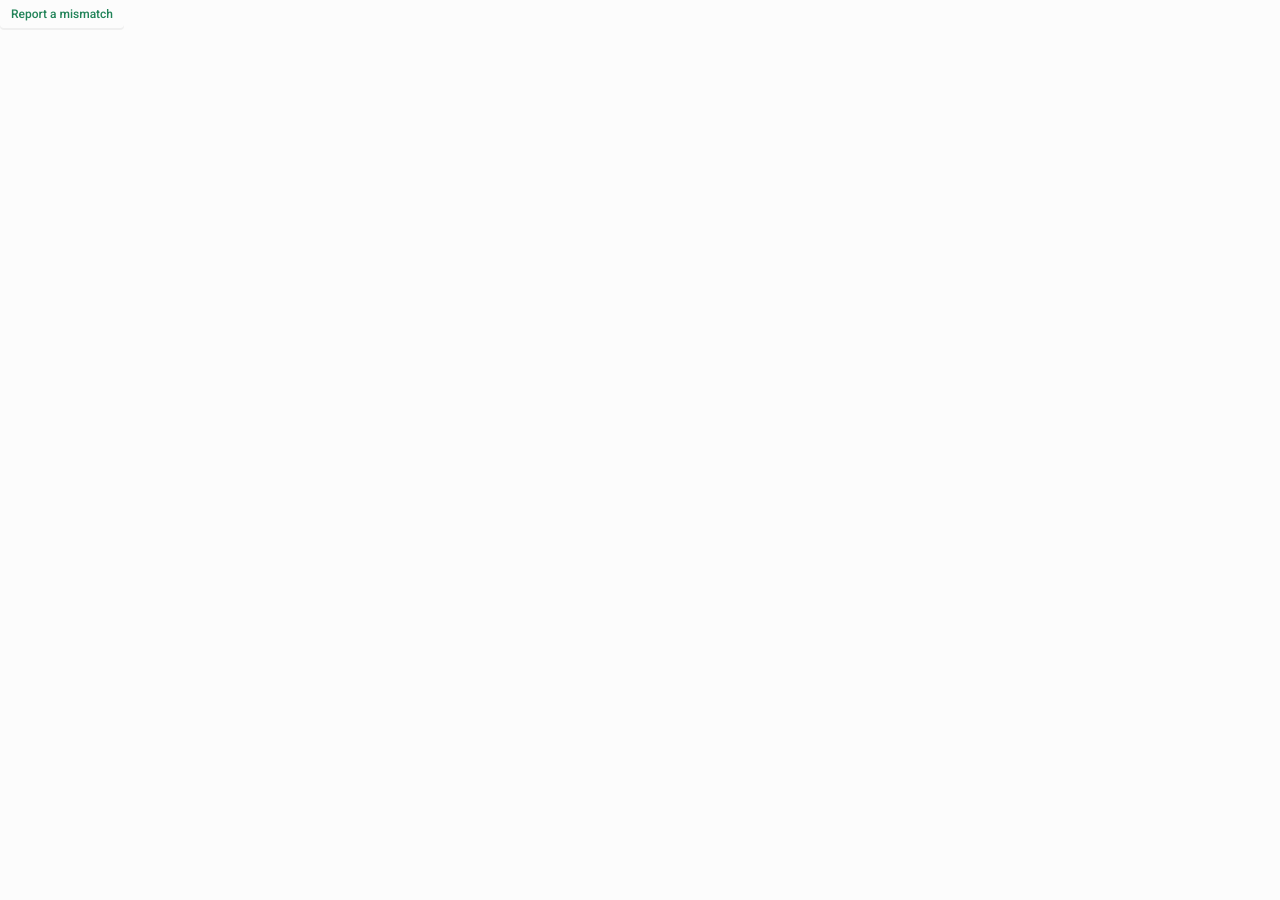
Test: ReportDialog › clears the field error once a field is chosen
Click the button "Report a mismatch": (62, 14) [0,0,124,28]
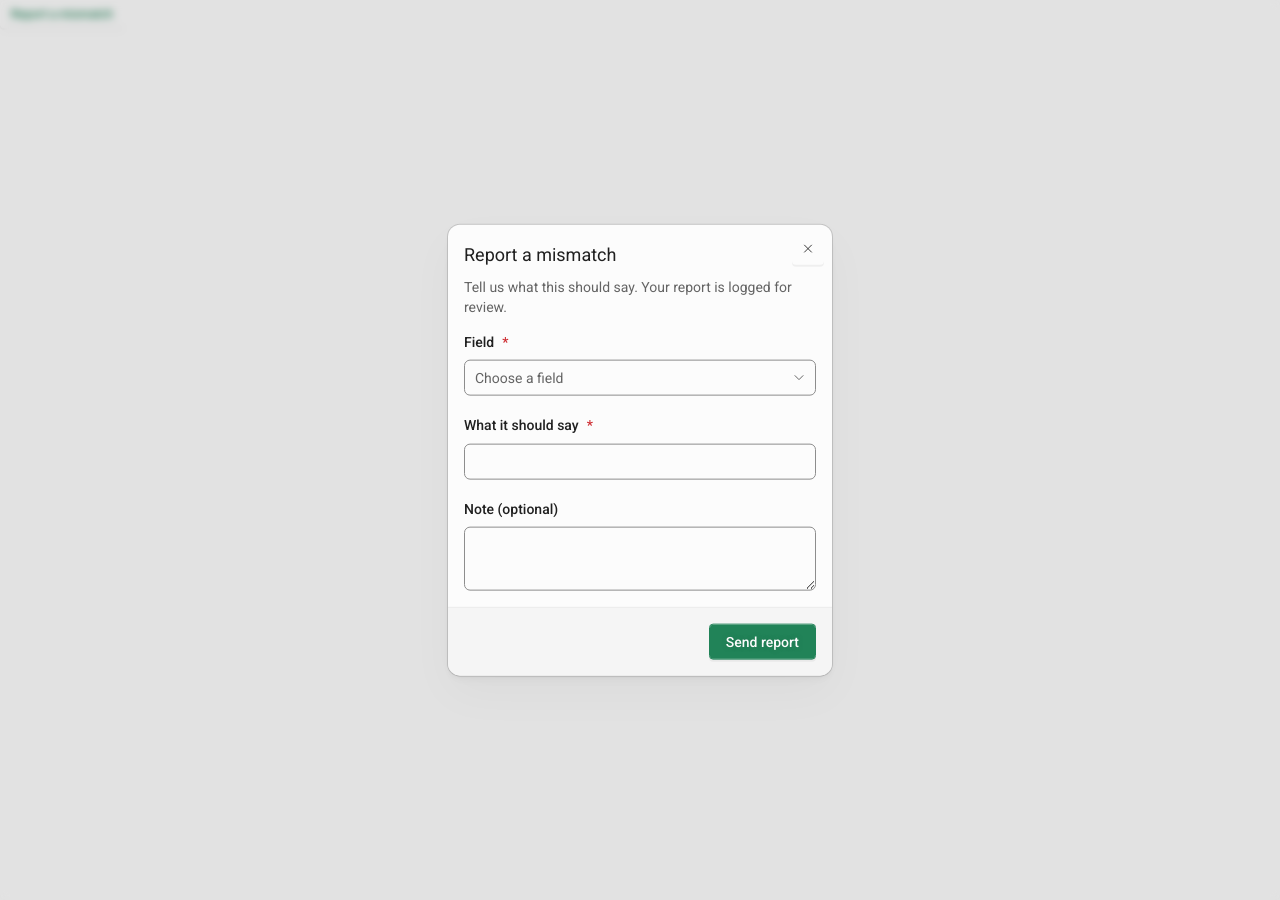
In the field labelled "What it should say *": (640, 461) [464,443,816,479], type "Mid-level"
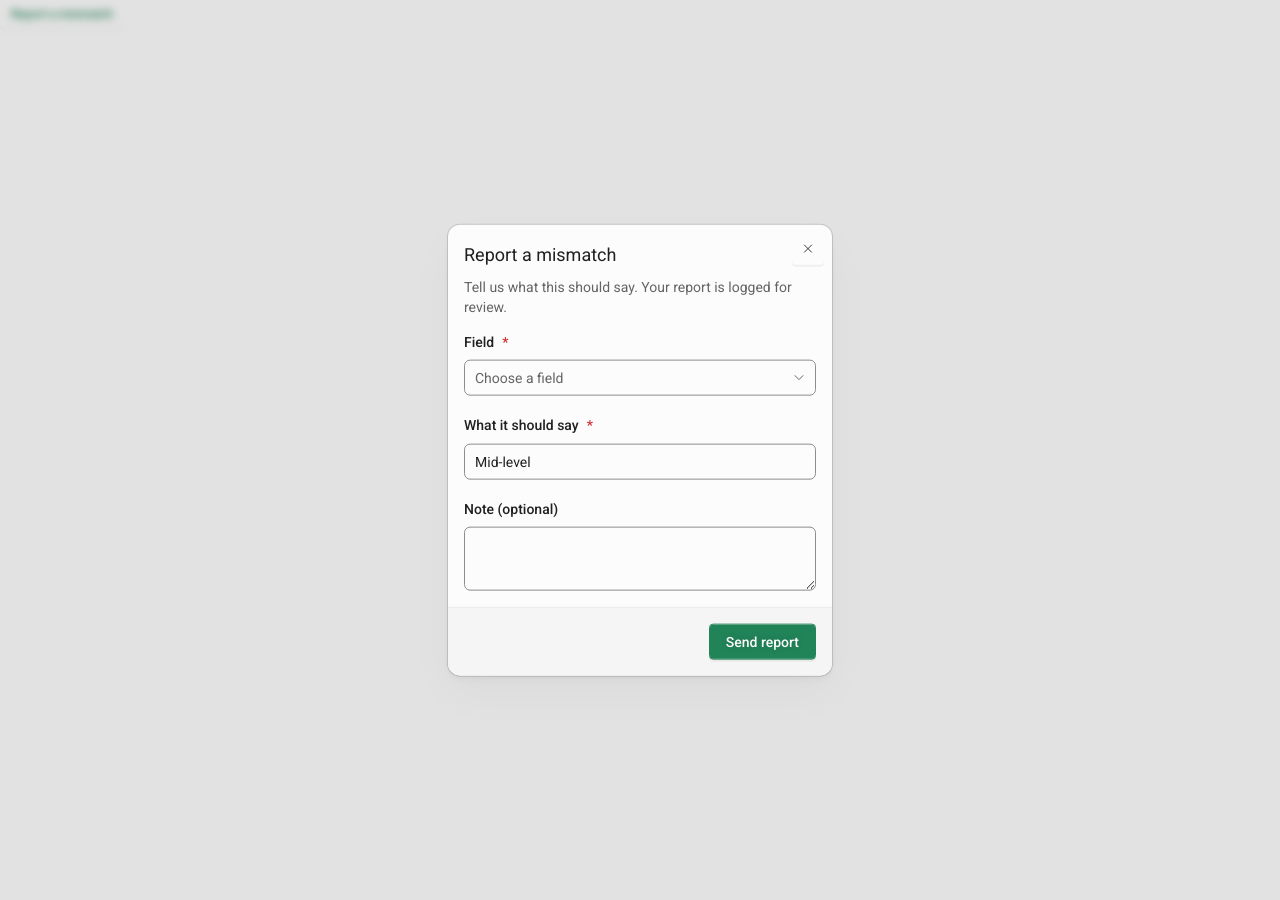
Click the button "Send report": (762, 641) [709,623,816,659]
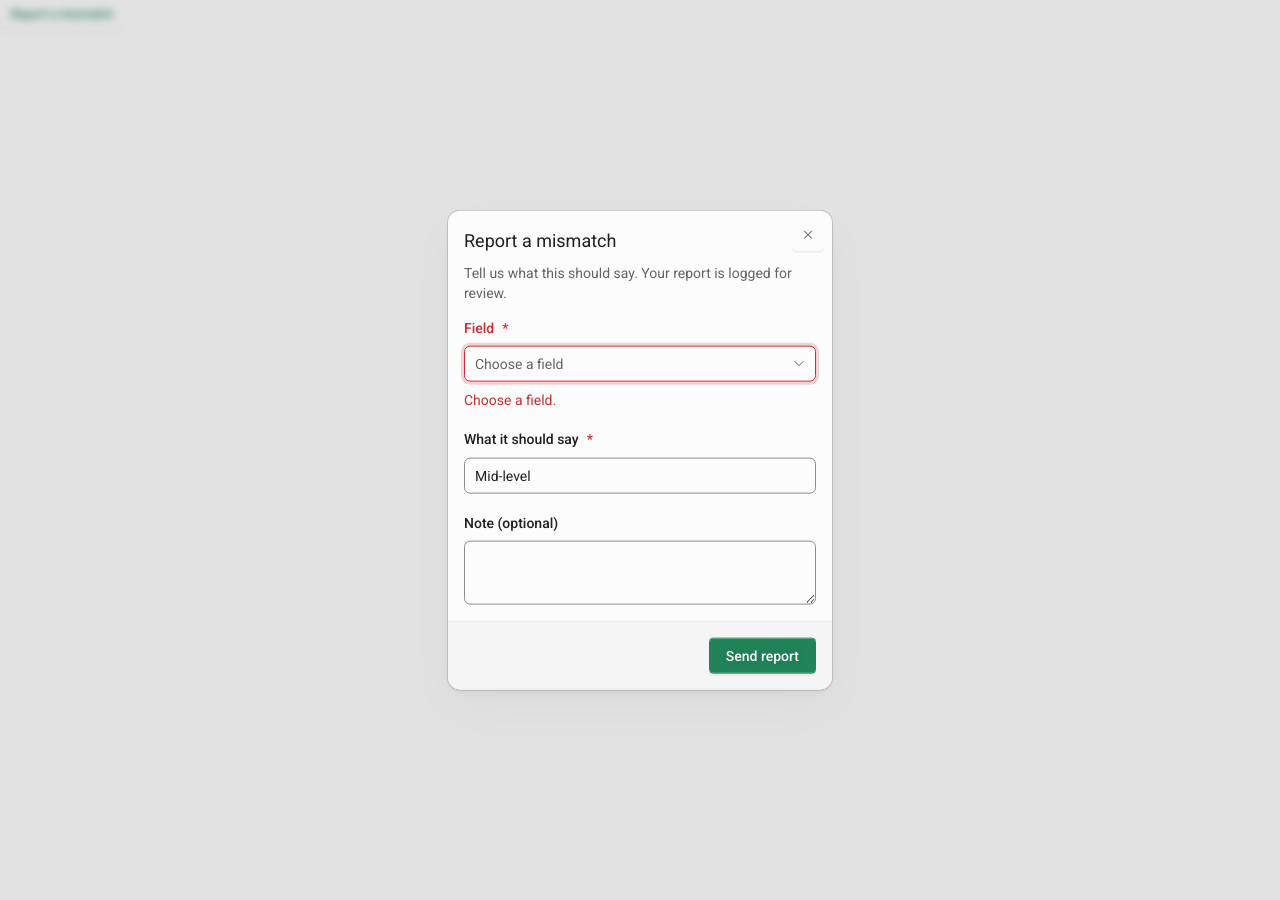
expect the text "Choose a field." is shown: met, box [464,392,556,408]
Click the dropdown labelled "field": (519, 364) [464,346,816,382]
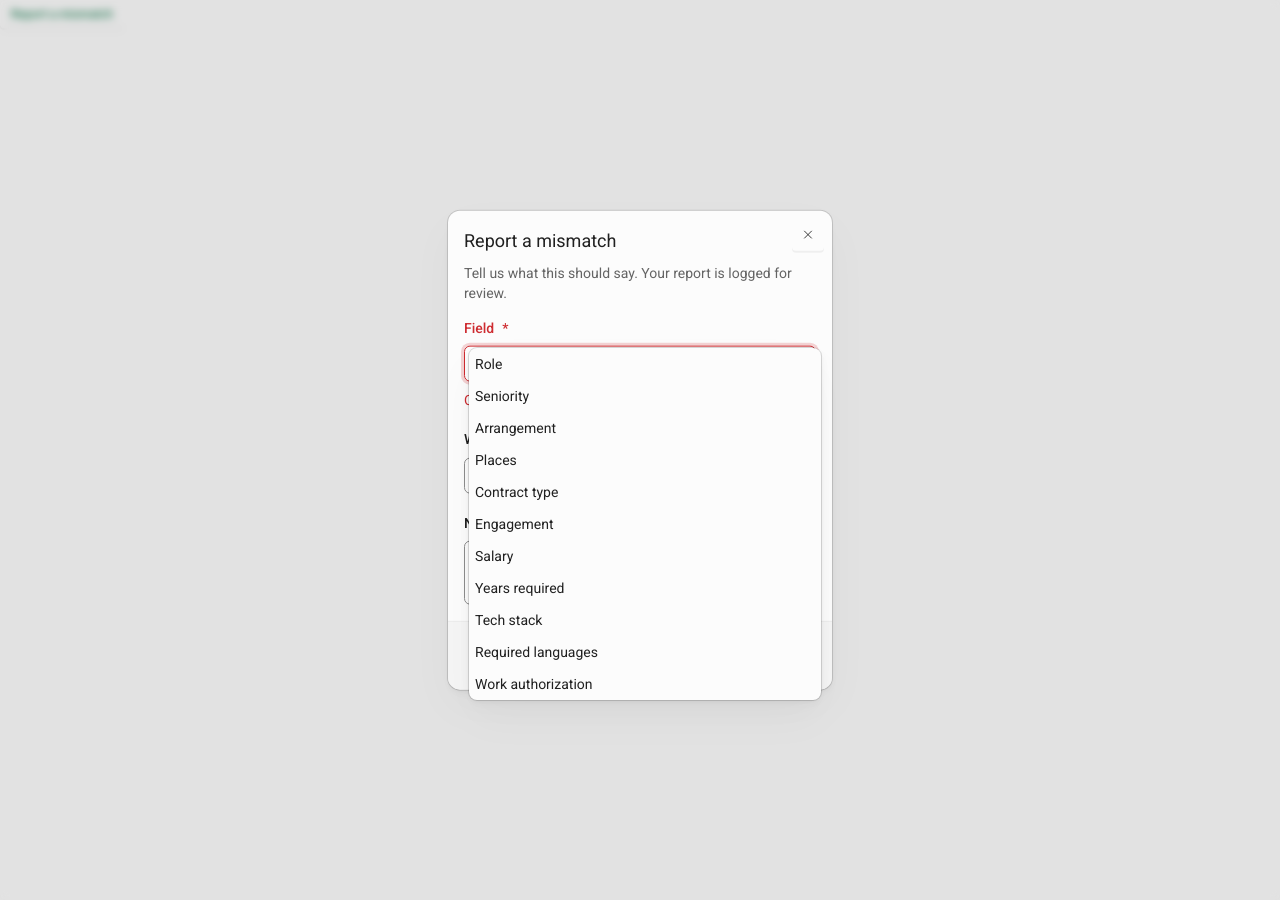
Click the option "Salary": (494, 556) [475,548,514,564]
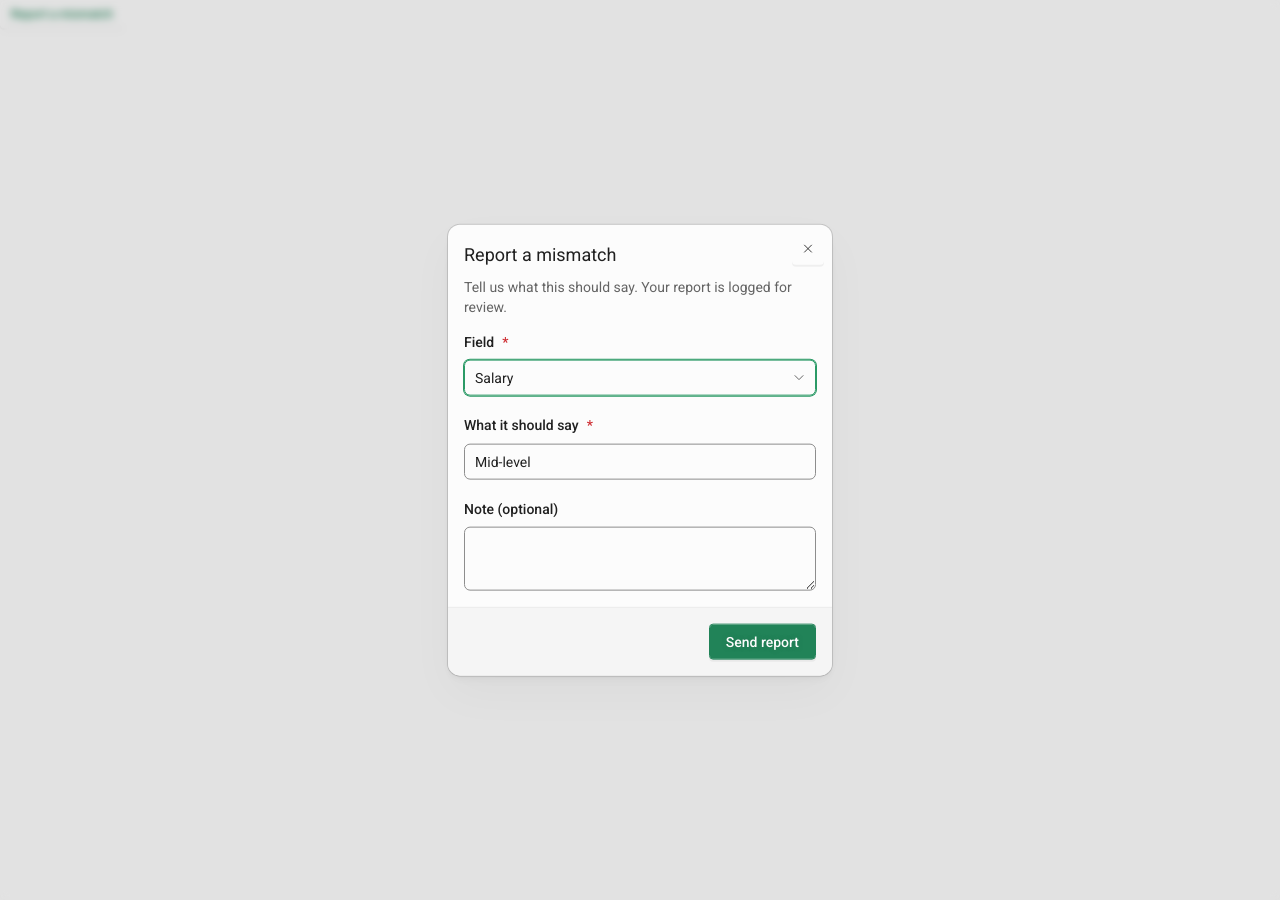
expect the text "Choose a field." is gone: met
